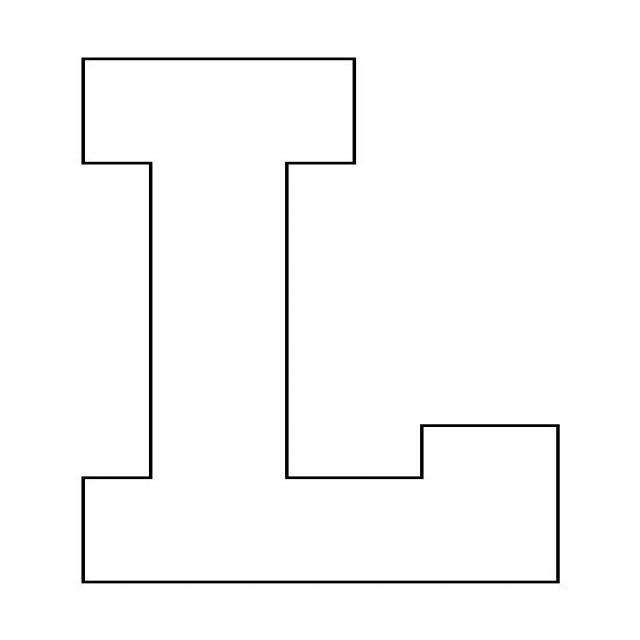L: (58, 38, 584, 594)
